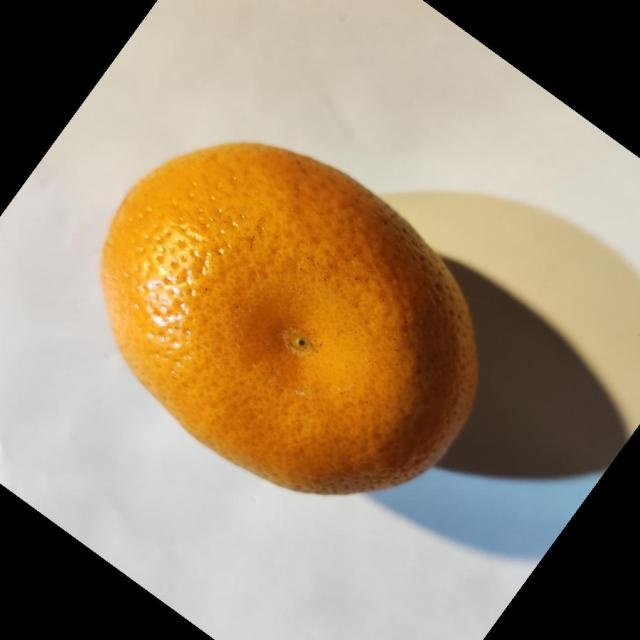agrume: (99, 140, 480, 496)
